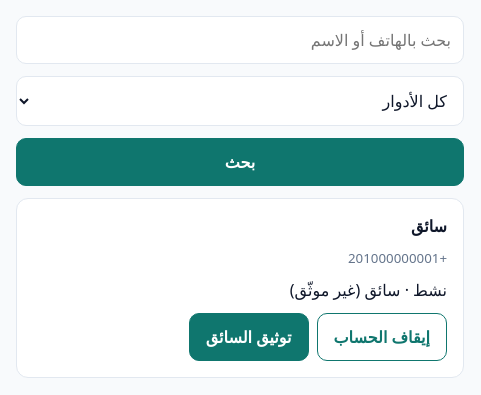
Test: AdminUsers › verifies a driver and shows the updated row
Click the button "توثيق السائق" at (249, 337), box top-left (189, 313), bottom-right (308, 361)
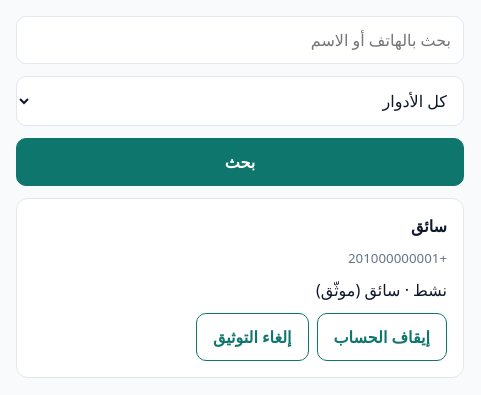
Expected: the text "موثّق" is shown, top-left (316, 279), bottom-right (409, 301)
Now the text "غير موثّق" is gone
